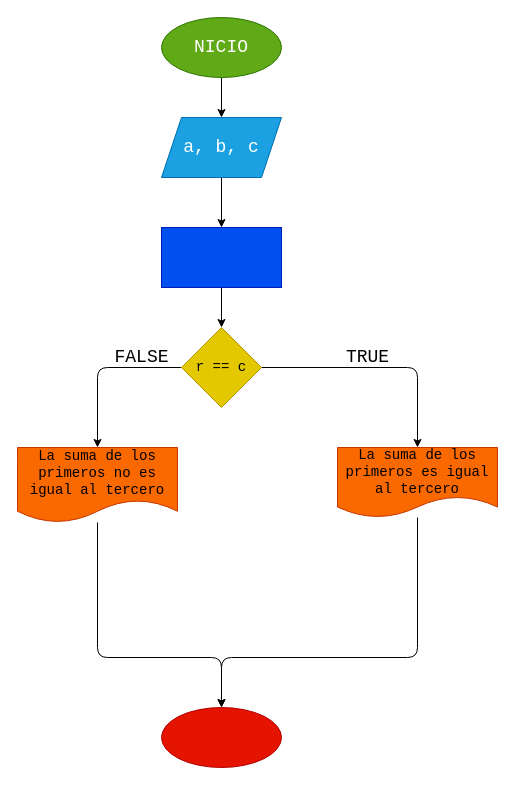
The diagram is 515 pixels wide and 785 high, and some of its shapes have lost their labels. Here are the shapes that lost their labels. From the top down, the centre of each, then its label:
the point at 221,257: r = a + b
the point at 221,737: FIN
